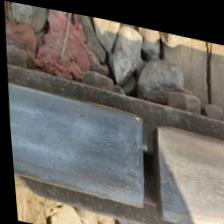person: (84, 94, 209, 222)
